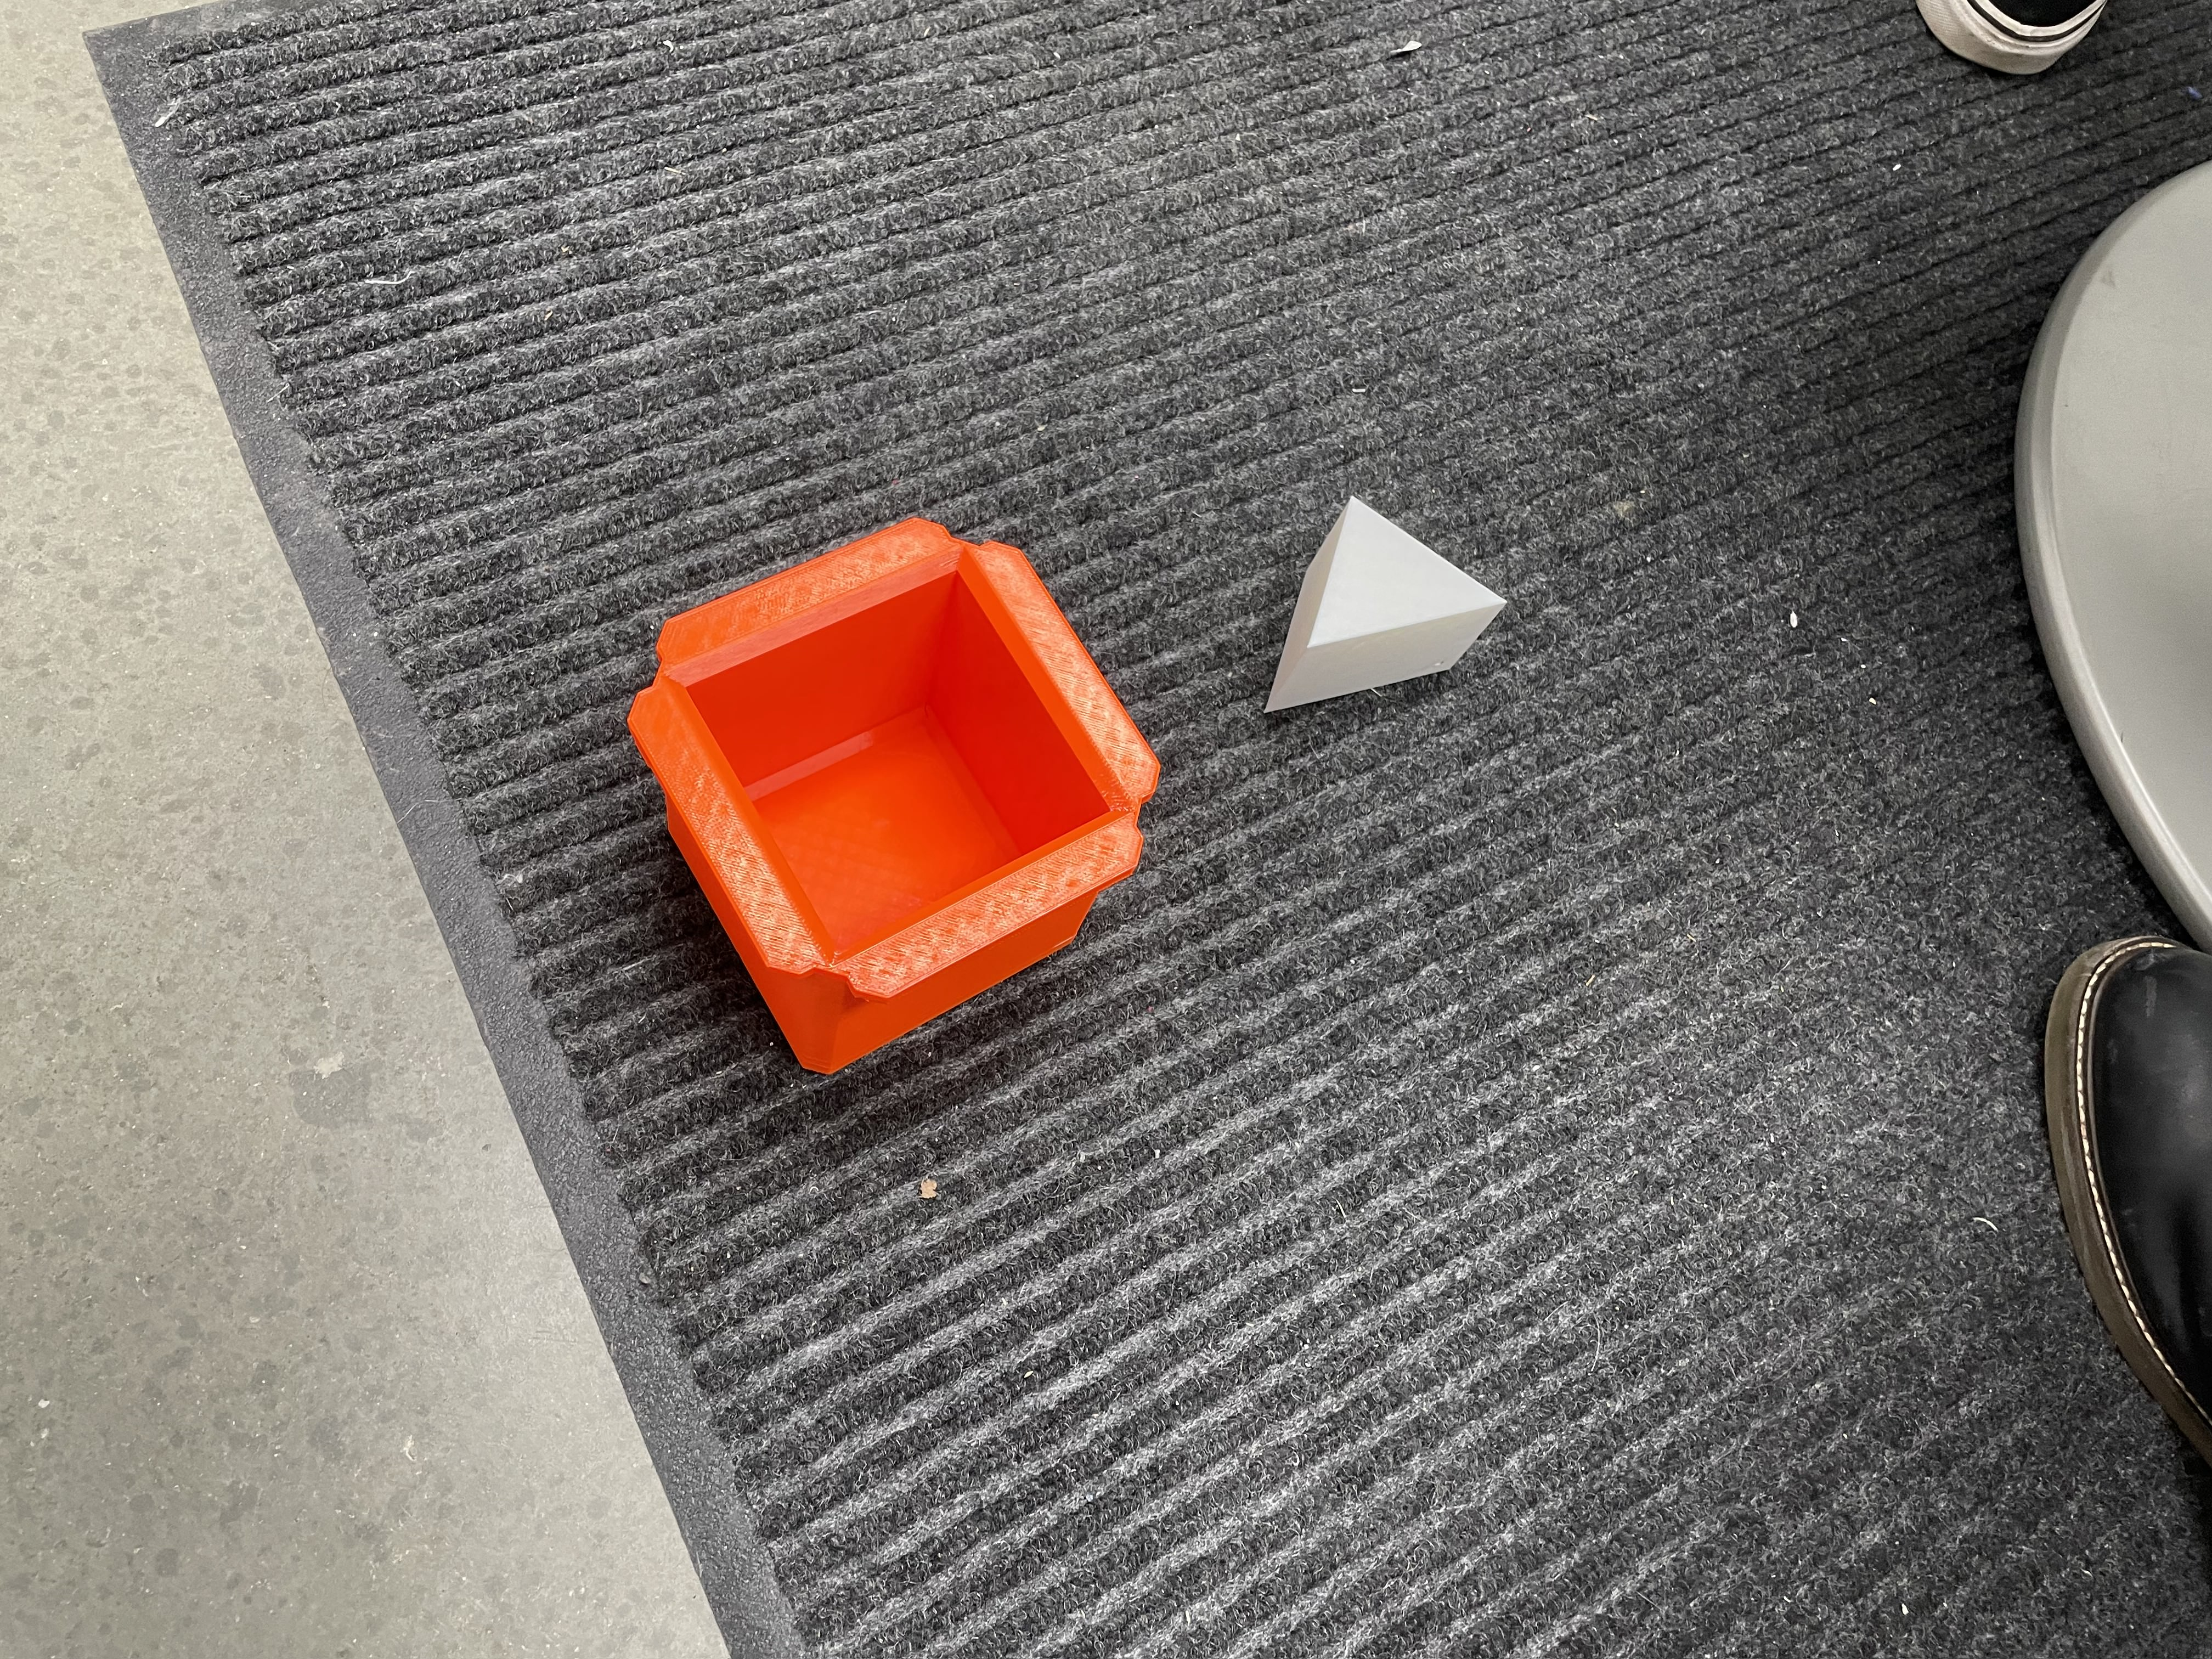payload1: (608, 505, 1190, 1091)
payload2: (1256, 467, 1529, 744)
